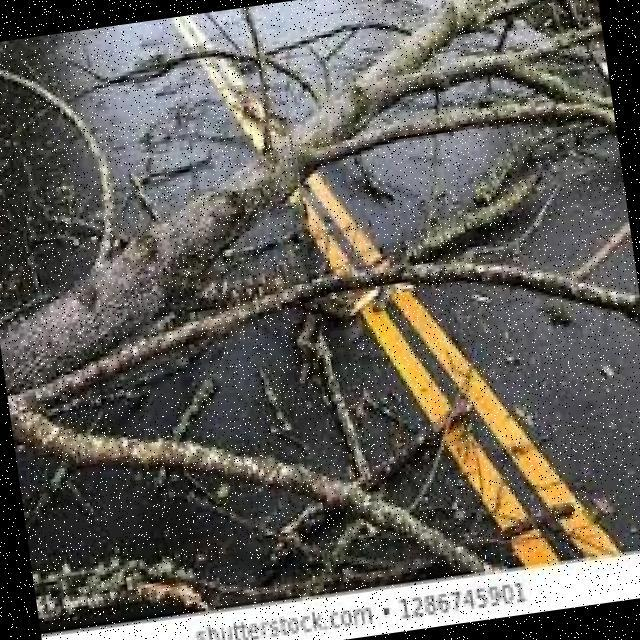fallen_object: (0, 0, 622, 423)
